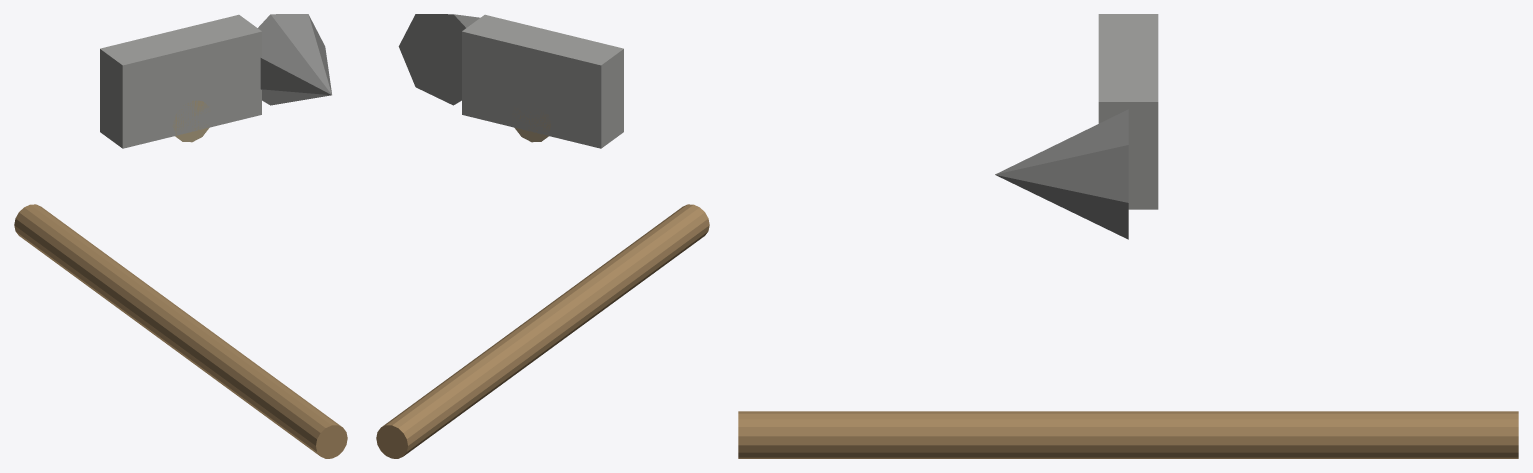
File: stone_axe.glb
3 renders of one model, left to right at view 1: azimuth 30°, elevation 25°; view 2: azimuth 150°, elevation 25°; view 3: azimuth 270°, elevation 25°, orthographic. The views are drawn at different scales.
Visible parts, largest first — view 1: geometry_0; view 2: geometry_0; view 3: geometry_0.
Part boxes in pixels (x1,y1,x2,y2): geometry_0: [14, 14, 347, 458]; geometry_0: [376, 14, 709, 458]; geometry_0: [738, 14, 1518, 458].
Bounding box in the file's own units: 0.43 × 0.5997 × 1.05.
